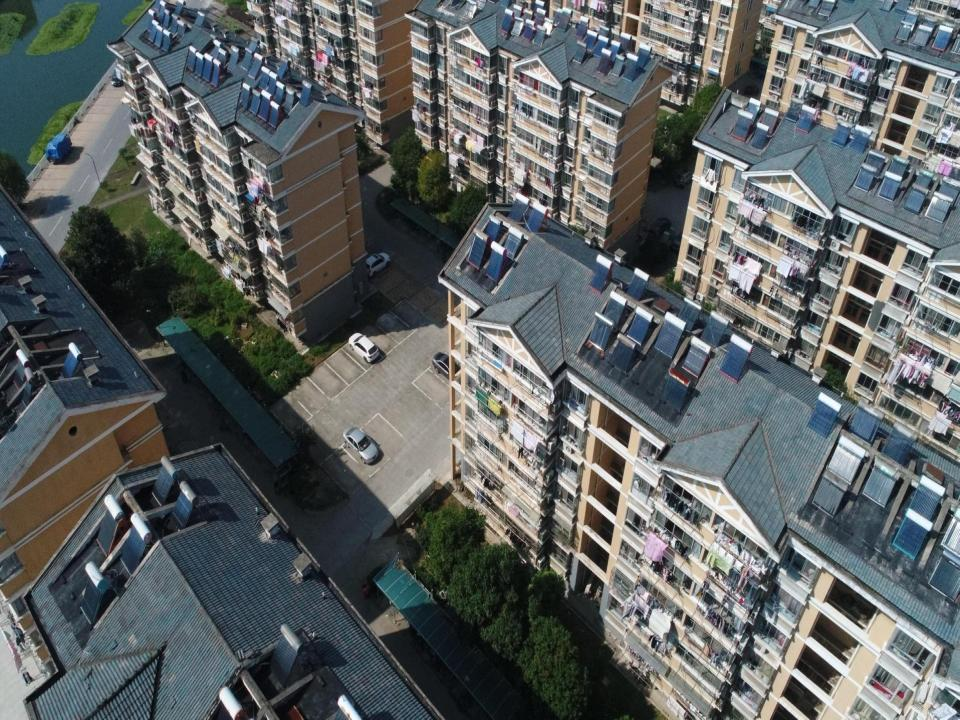car: (342, 424, 379, 466), (348, 333, 380, 364), (432, 352, 460, 381), (363, 251, 391, 277), (649, 217, 672, 239), (674, 166, 695, 190), (669, 229, 689, 254), (110, 60, 123, 88), (744, 84, 759, 95)
truck: (44, 133, 72, 164)
